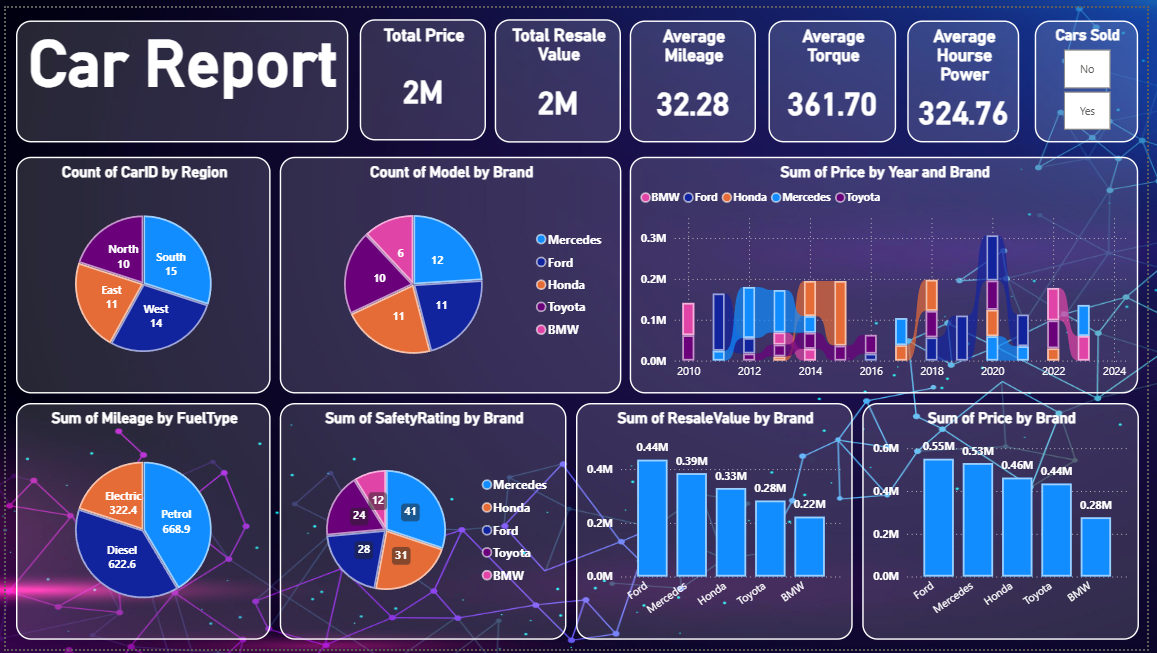

This screenshot's page, from the dashboard's own definition file:
{"tool":"powerbi","page":{"name":"Page 1","canvas":[1280,720],"ordinal":0},"visuals":[{"type":"columnChart","fields":{"Category":["cars_data (1).Brand"],"Y":["Sum(cars_data (1).Price)"]},"box":[960,442.9,310,265.7],"z":0},{"type":"ribbonChart","fields":{"Category":["cars_data (1).Year"],"Y":["Sum(cars_data (1).Price)"],"Series":["cars_data (1).Brand"]},"box":[700,167.1,570,265.7],"z":1000},{"type":"pieChart","fields":{"Category":["cars_data (1).Region"],"Y":["CountNonNull(cars_data (1).CarID)"]},"box":[11.4,167.1,285.7,265.7],"z":2000},{"type":"pieChart","fields":{"Category":["cars_data (1).FuelType"],"Y":["Sum(cars_data (1).Mileage)"]},"box":[11.4,442.9,285.7,265.7],"z":3000},{"type":"pieChart","fields":{"Category":["cars_data (1).Brand"],"Y":["CountNonNull(cars_data (1).Model)"]},"box":[307.1,167.1,382.9,265.7],"z":4000},{"type":"columnChart","fields":{"Category":["cars_data (1).Brand"],"Y":["Sum(cars_data (1).ResaleValue)"]},"box":[640,442.9,310,265.7],"z":5000},{"type":"pieChart","fields":{"Category":["cars_data (1).Brand"],"Y":["Sum(cars_data (1).SafetyRating)"]},"box":[307.1,442.9,321.4,265.7],"z":6000},{"type":"textbox","title":"Car Report","box":[11.4,14.3,372.9,137.1],"z":7000},{"type":"card","title":"Total Price","fields":{"Values":["Sum(cars_data (1).Price)"]},"box":[397.1,12.9,141.4,135.7],"z":8000},{"type":"card","title":"Average Torque","fields":{"Values":["Avg(cars_data (1).Torque)"]},"box":[855.7,14.3,142.9,137.1],"z":9000},{"type":"card","title":"Average Hourse Power","fields":{"Values":["Avg(cars_data (1).Horsepower)"]},"box":[1011.4,14.3,125.7,137.1],"z":10000},{"type":"card","title":"Average Mileage","fields":{"Values":["Avg(cars_data (1).Mileage)"]},"box":[700,14.3,141.4,137.1],"z":11000},{"type":"card","title":"Total Resale Value","fields":{"Values":["Sum(cars_data (1).ResaleValue)"]},"box":[548.6,12.9,141.4,138.6],"z":12000},{"type":"slicer","title":"Cars Sold","fields":{"Values":["cars_data (1).Sold"]},"box":[1154.3,14.3,115.7,137.1],"z":13000}]}

Visuals, with their boxes in screenshot pixels (x1, y1, x2, y2), scaled from the page's 1280x720 canvas onto the 1157x653 screenshot:
columnChart - cars_data (1).Brand x Sum(cars_data (1).Price): 868 402 1148 643
ribbonChart - cars_data (1).Year x Sum(cars_data (1).Price): 633 152 1148 393
pieChart - cars_data (1).Region x CountNonNull(cars_data (1).CarID): 10 152 269 393
pieChart - cars_data (1).FuelType x Sum(cars_data (1).Mileage): 10 402 269 643
pieChart - cars_data (1).Brand x CountNonNull(cars_data (1).Model): 278 152 624 393
columnChart - cars_data (1).Brand x Sum(cars_data (1).ResaleValue): 578 402 859 643
pieChart - cars_data (1).Brand x Sum(cars_data (1).SafetyRating): 278 402 568 643
"Car Report" textbox: 10 13 347 137
"Total Price" card: 359 12 487 135
"Average Torque" card: 773 13 903 137
"Average Hourse Power" card: 914 13 1028 137
"Average Mileage" card: 633 13 761 137
"Total Resale Value" card: 496 12 624 137
"Cars Sold" slicer: 1043 13 1148 137
